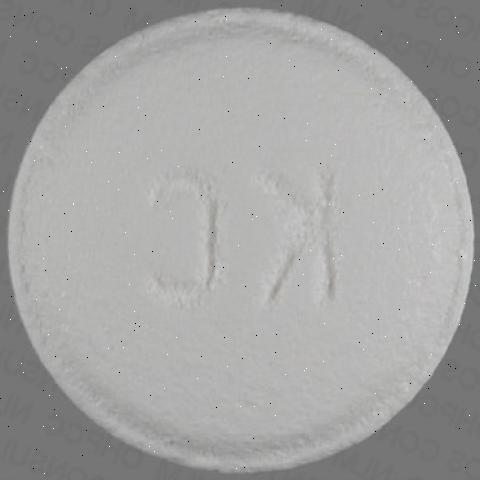Pill: (7, 7, 472, 477)
